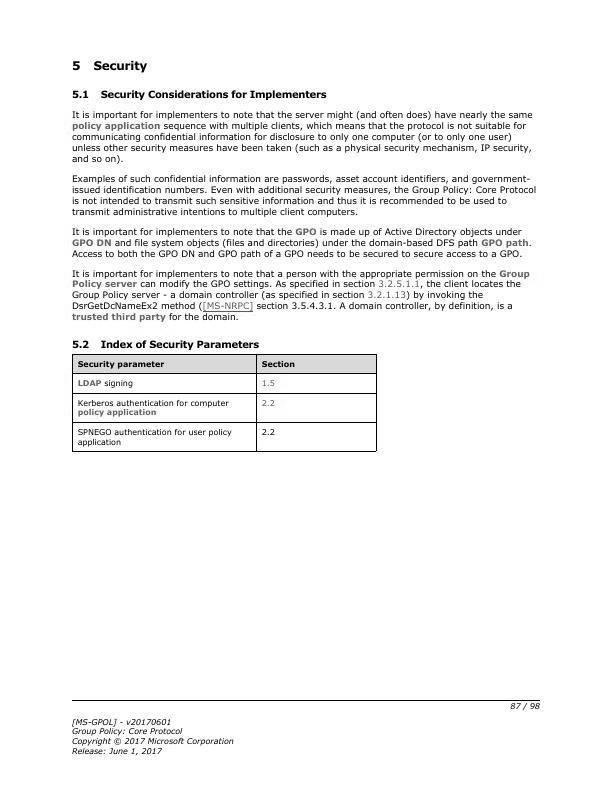table: (72, 355, 378, 451)
text: (70, 108, 535, 164), (68, 267, 532, 322), (68, 171, 539, 217), (70, 226, 532, 260), (70, 714, 235, 756), (69, 87, 330, 100), (70, 337, 262, 350), (66, 57, 149, 75)
